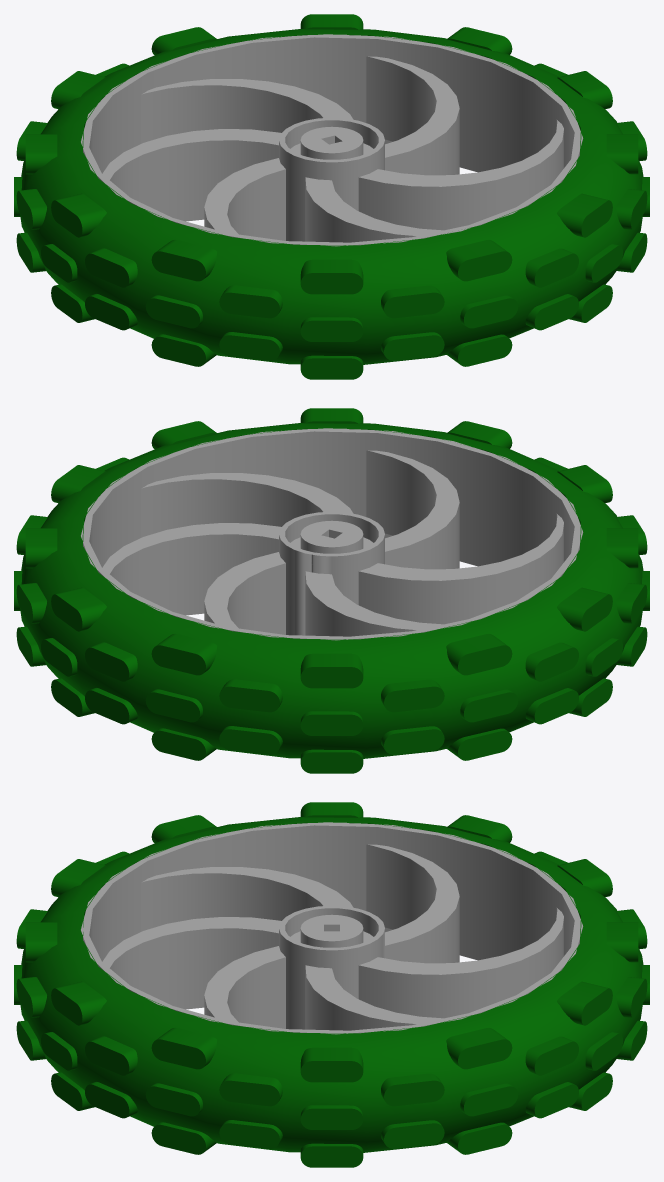
The model's file is Wheel2.fbx.
3 views of the same model, one above another, from view 1: azimuth 30°, elevation 25°; view 2: azimuth 150°, elevation 25°; view 3: azimuth 270°, elevation 25° (orthographic).
Parts seen in each view (by area): view 1: Group31, Group64, Group65, Group18, Group59, Group62, Group17, Group40, Group35, Group53, Group12, Group28 (+25 smaller); view 2: Group31, Group64, Group65, Group39, Group46, Group16, Group30, Group26, Group53, Group61, Group42, Group33 (+25 smaller); view 3: Group31, Group64, Group65, Group45, Group44, Group2, Group14, Group22, Group61, Group35, Group6, Group9 (+25 smaller).
Part boxes in pixels (x1,y1,x2,y2): Group31: (20,29,643,364); Group64: (102,56,563,242); Group65: (81,34,583,246); Group18: (300,259,363,294); Group59: (446,240,512,281); Group62: (151,240,216,281); Group17: (381,285,444,318); Group40: (219,285,282,318); Group35: (557,193,612,237); Group53: (51,193,106,237); Group12: (300,317,363,341); Group28: (525,248,578,287); Group31: (20,423,643,758); Group64: (102,450,563,636); Group65: (81,428,583,640); Group39: (300,653,363,688); Group46: (446,634,512,675); Group16: (151,634,216,675); Group30: (381,679,444,712); Group26: (219,679,282,712); Group53: (557,587,612,631); Group61: (51,587,106,631); Group42: (300,711,363,735); Group33: (525,642,578,681); Group31: (20,817,643,1152); Group64: (102,844,563,1030); Group65: (81,822,583,1034); Group45: (300,1047,363,1082); Group44: (446,1028,512,1069); Group2: (151,1028,216,1069); Group14: (381,1073,444,1106); Group22: (219,1073,282,1106); Group61: (557,981,612,1025); Group35: (51,981,106,1025); Group6: (300,1105,363,1129); Group9: (525,1036,578,1075).
Size of the model in its own units: 5.06 by 1 by 5.06.
